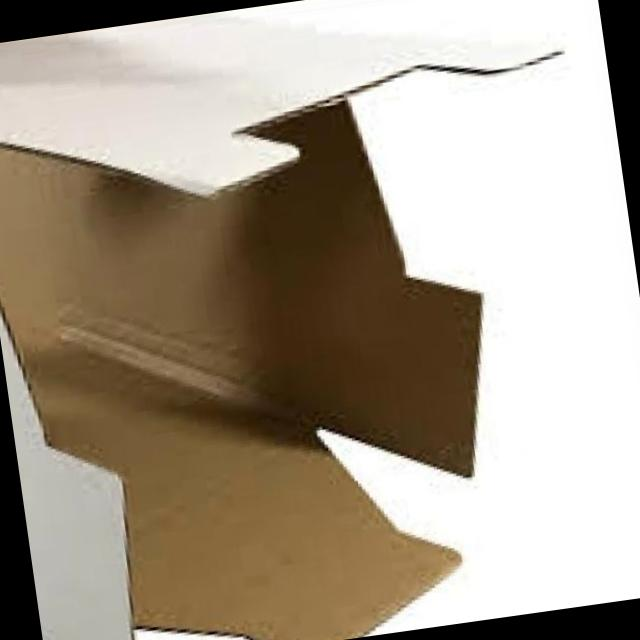cardboard paper: (0, 102, 479, 640)
